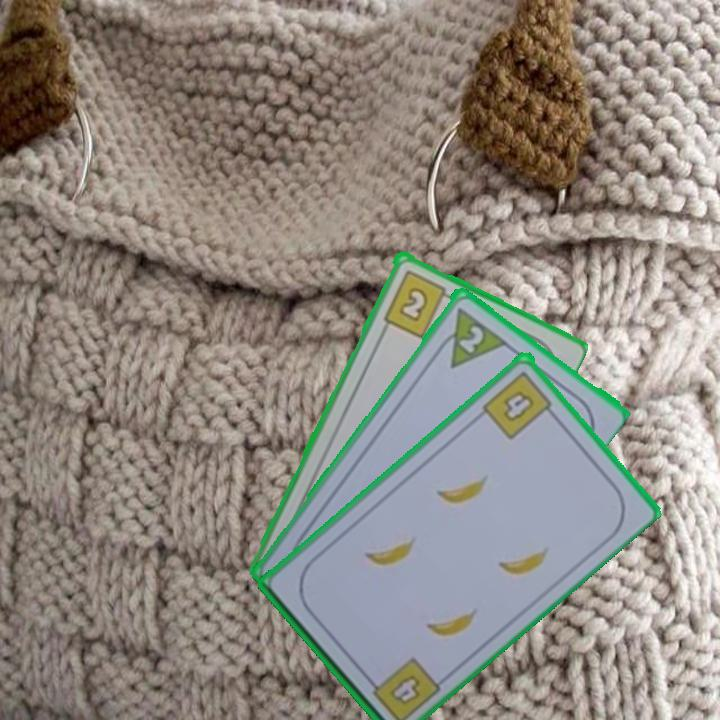2b: (379, 266, 456, 340)
2p: (455, 321, 487, 356)
4b: (479, 367, 559, 442), (390, 670, 423, 708)
